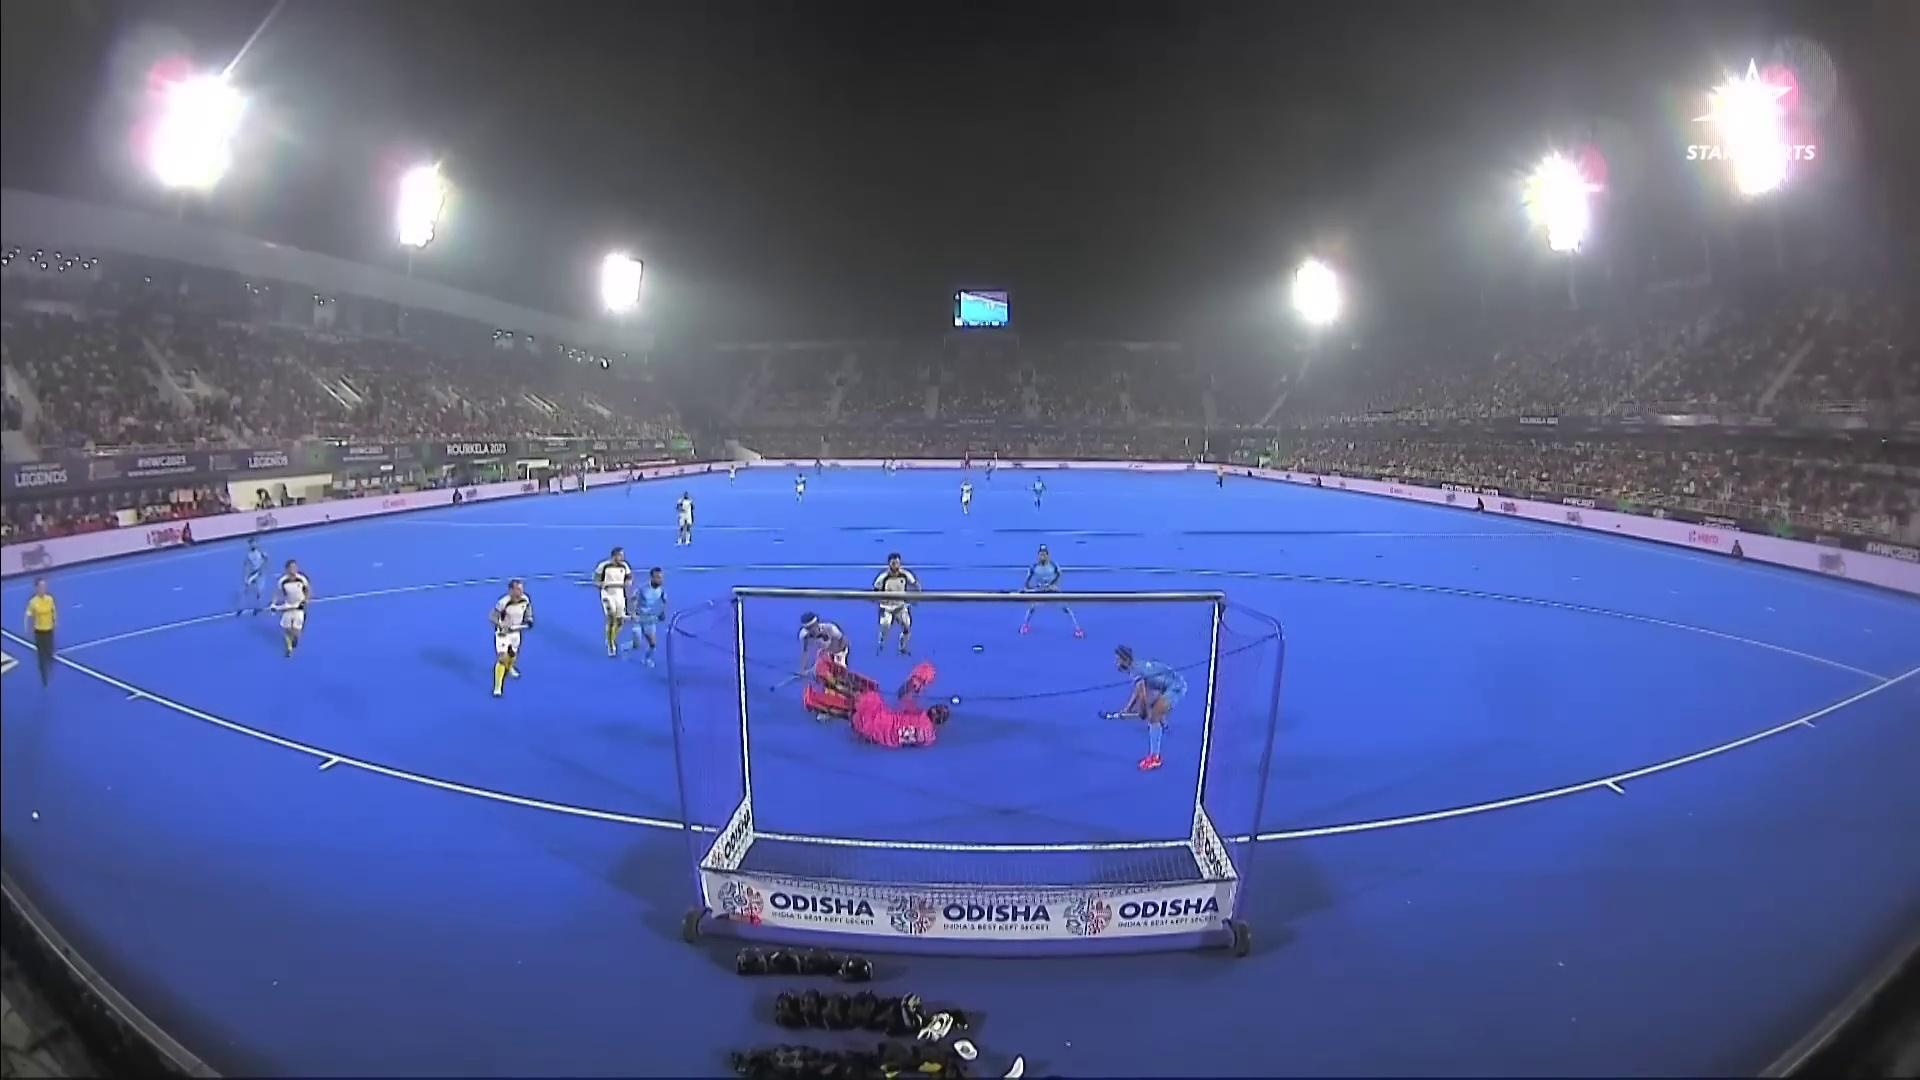ball: (949, 694, 963, 705)
